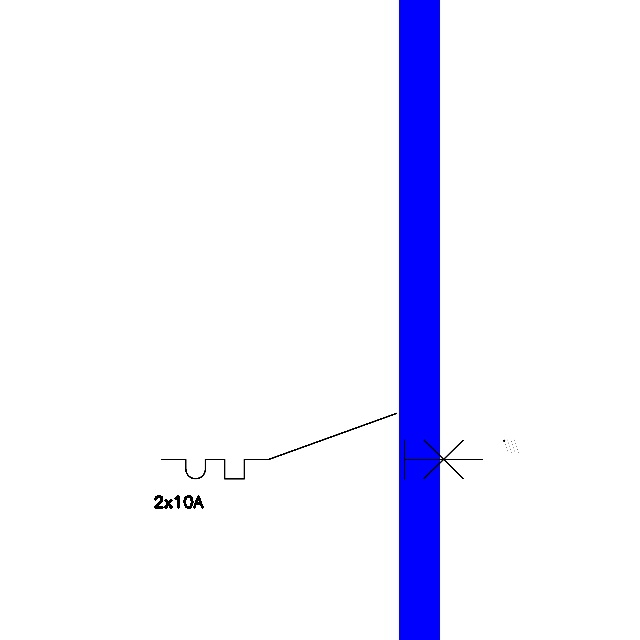interruptor_termomagnetico: (153, 405, 491, 487)
